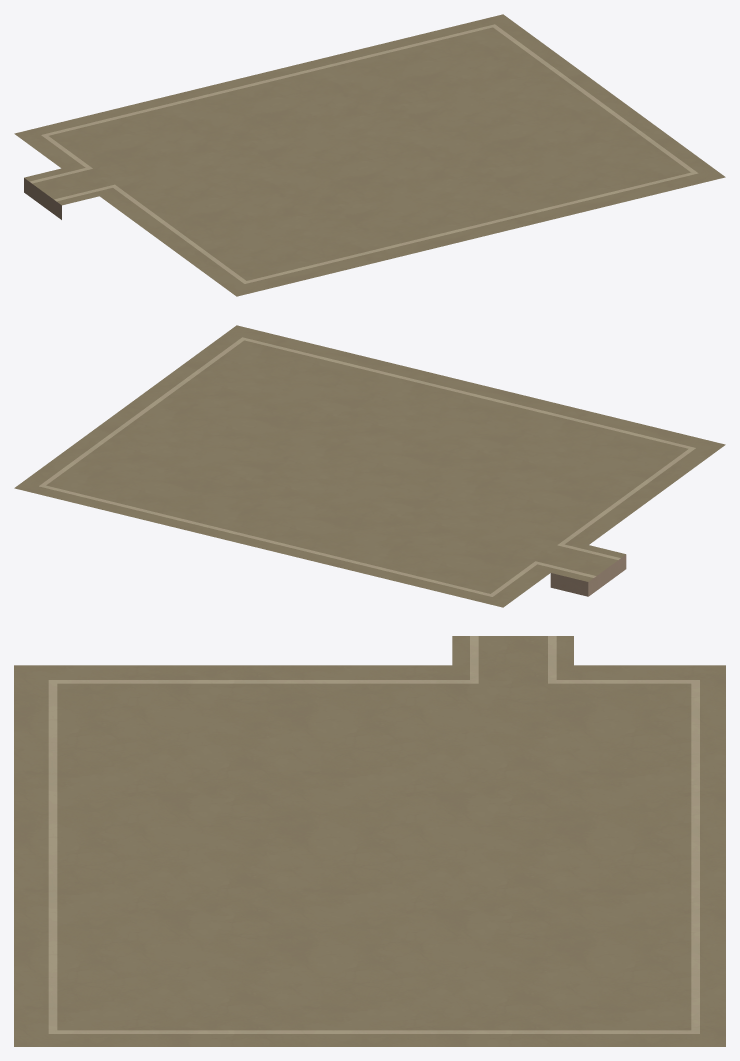
Rendered from Right2_Ground.fbx.
The picture shows the model from 3 angles, top to bottom: view 1: azimuth 30°, elevation 25°; view 2: azimuth 150°, elevation 25°; view 3: azimuth 270°, elevation 25°; orthographic projection. The views are drawn at different scales.
Parts seen in each view (by area): view 1: Floor; view 2: Floor; view 3: Floor.
Part boxes in pixels (x1=…): Floor: x1=14, y1=14, x2=725, y2=296; Floor: x1=14, y1=325, x2=725, y2=607; Floor: x1=14, y1=636, x2=725, y2=1046.
Bounding box in the file's own units: 5600 × 150 × 4100.
